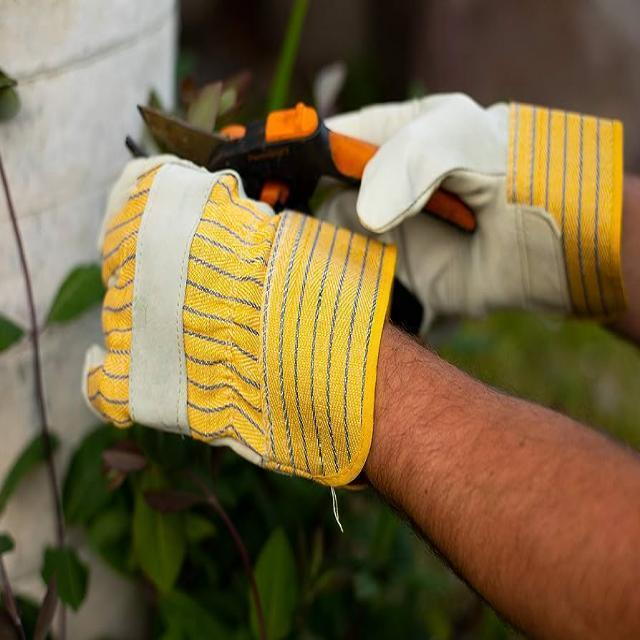Gloves: (81, 147, 400, 502), (319, 84, 630, 357)
